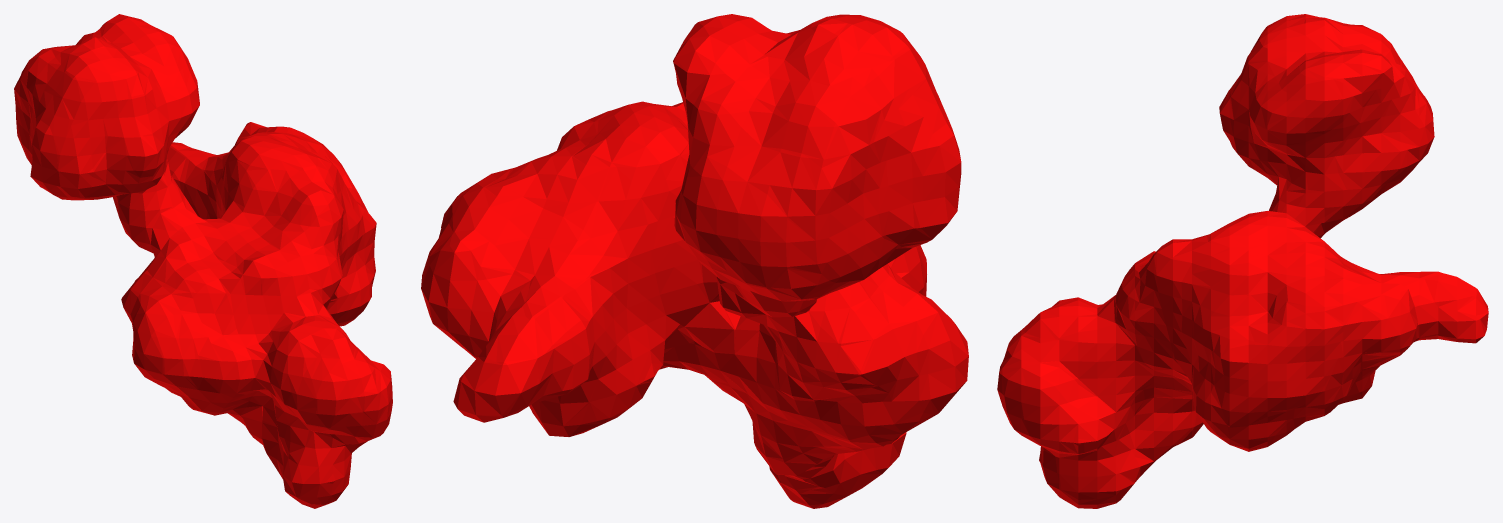
Rendered from glrR_coarse.dae.
3 views of the same model, side by side, from view 1: azimuth 30°, elevation 25°; view 2: azimuth 150°, elevation 25°; view 3: azimuth 270°, elevation 25° (orthographic). The views are drawn at different scales.
Parts seen in each view (by area): view 1: glrR; view 2: glrR; view 3: glrR.
Part boxes in pixels (x1,y1,x2,y2): glrR: (14,14,392,508); glrR: (421,14,968,508); glrR: (997,14,1488,508).
Size of the model in its own units: 71.58 by 89.04 by 91.89.
